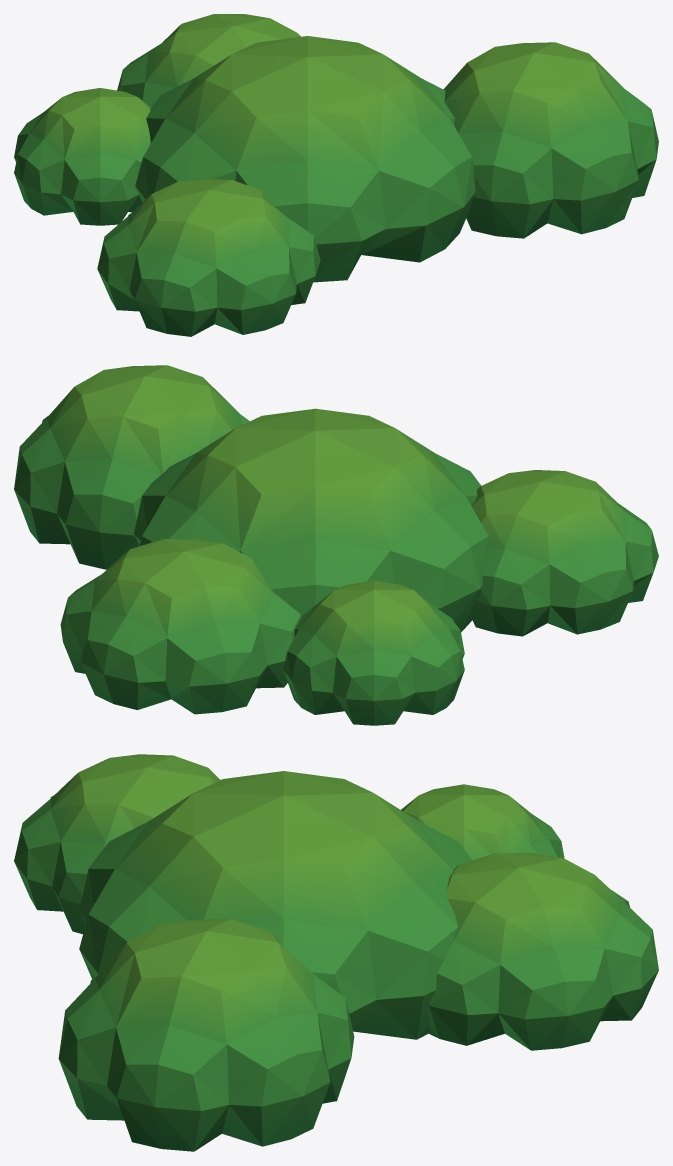
The model's file is moss-cushion.glb.
3 renders of one model, top to bottom at view 1: azimuth 30°, elevation 25°; view 2: azimuth 150°, elevation 25°; view 3: azimuth 270°, elevation 25°, orthographic. The views are drawn at different scales.
Parts seen in each view (by area): view 1: plant; view 2: plant; view 3: plant.
Boxes of the visible parts, x1,y1,x2,y2 form: plant: (14, 14, 658, 336); plant: (14, 365, 658, 725); plant: (14, 754, 658, 1151).
Bounding box in the file's own units: 1.76 × 0.4846 × 1.5.
